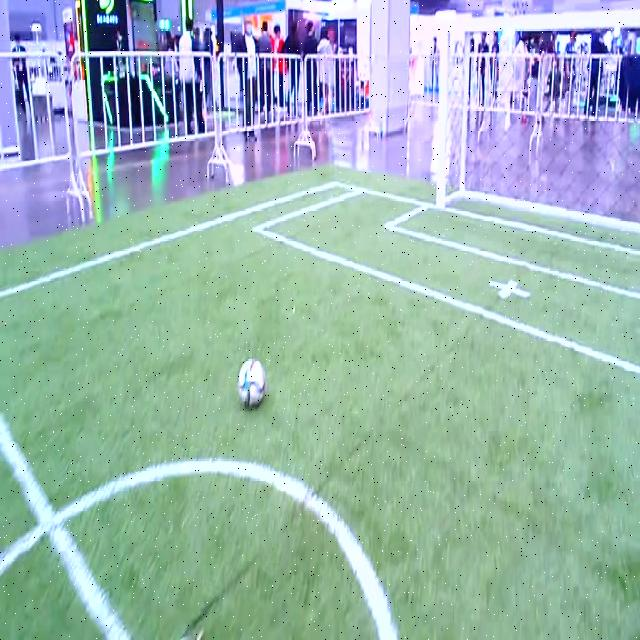ball: (238, 358, 265, 408)
